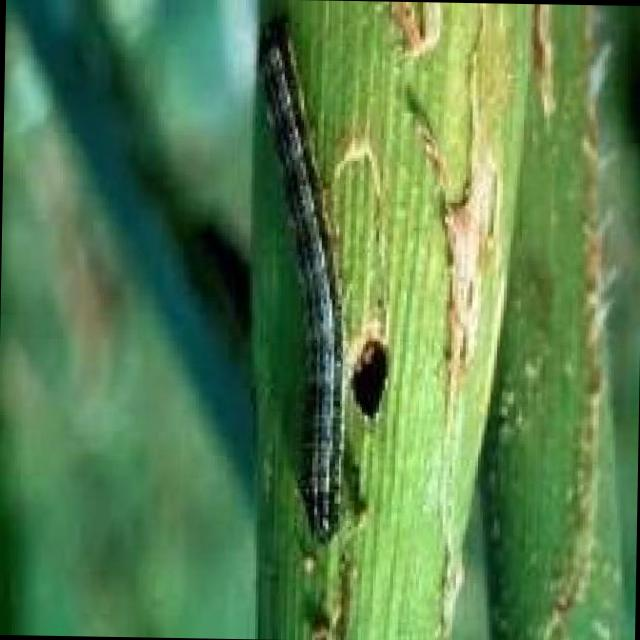pest: (238, 46, 366, 546)
